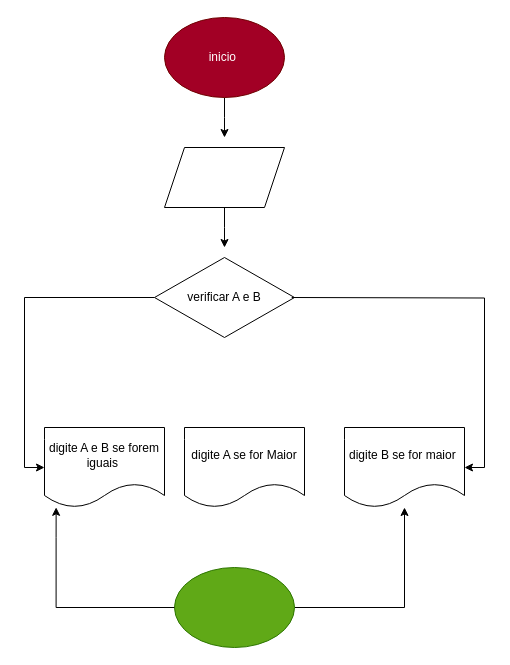
The diagram is 510 pixels wide and 665 high, and some of its shapes have lost their labels. The centre of each missing label's shape, as x and y in pixels:
"fim" belongs at [234,607].
"ler A>B" belongs at [224,177].
